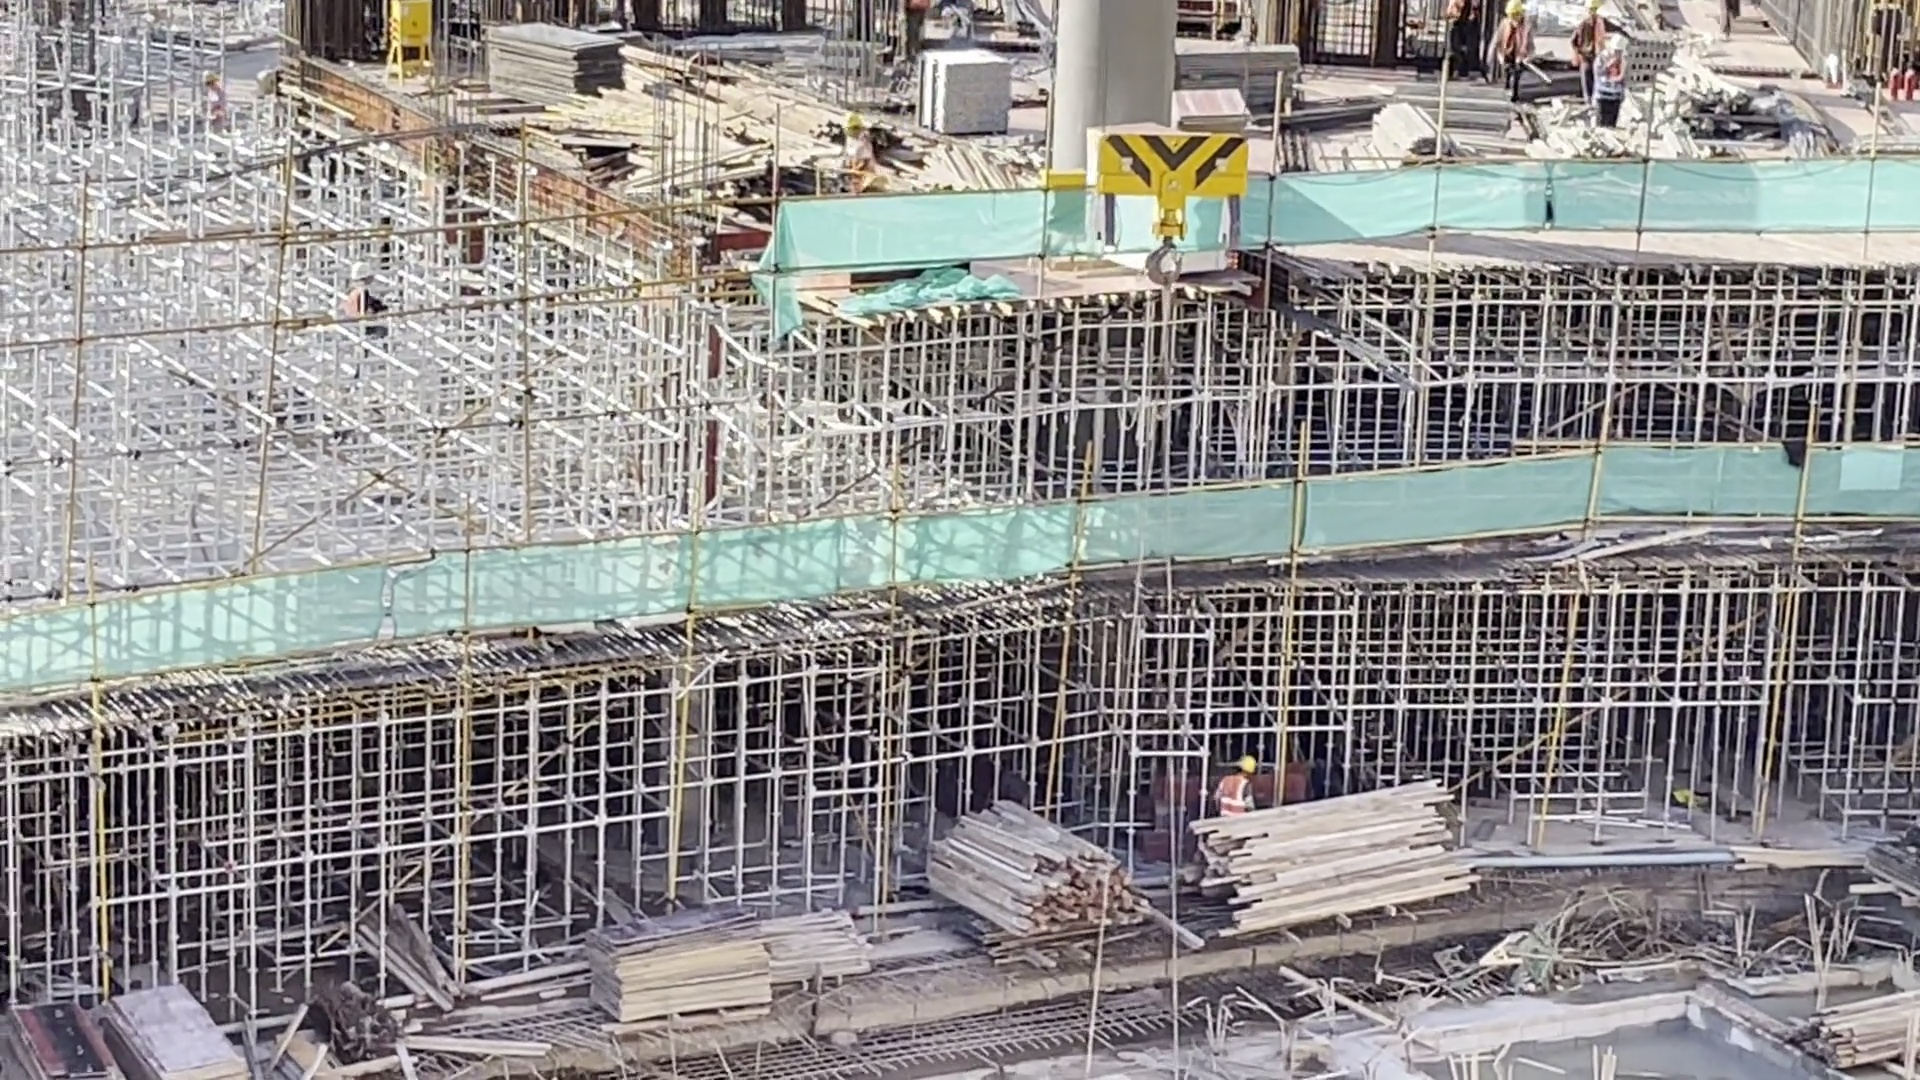board: (588, 911, 780, 1026), (110, 979, 246, 1080), (484, 19, 632, 106), (8, 994, 123, 1080), (1178, 42, 1301, 88), (1170, 88, 1252, 133)
ebox: (384, 1, 440, 86)
helmet: (348, 260, 374, 284), (1608, 34, 1631, 54), (1235, 755, 1255, 773), (1503, 1, 1525, 16)
hook: (1089, 124, 1247, 291)
person: (1486, 1, 1538, 99), (1594, 34, 1632, 127), (1212, 752, 1254, 814), (1569, 1, 1612, 55), (897, 1, 929, 57), (1723, 1, 1745, 42)
scaffold: (925, 46, 1013, 132)
vest: (1596, 53, 1627, 102), (1219, 773, 1249, 815)
wood: (1188, 798, 1477, 927), (922, 795, 1155, 948), (1797, 990, 1920, 1077), (1370, 101, 1434, 157)
